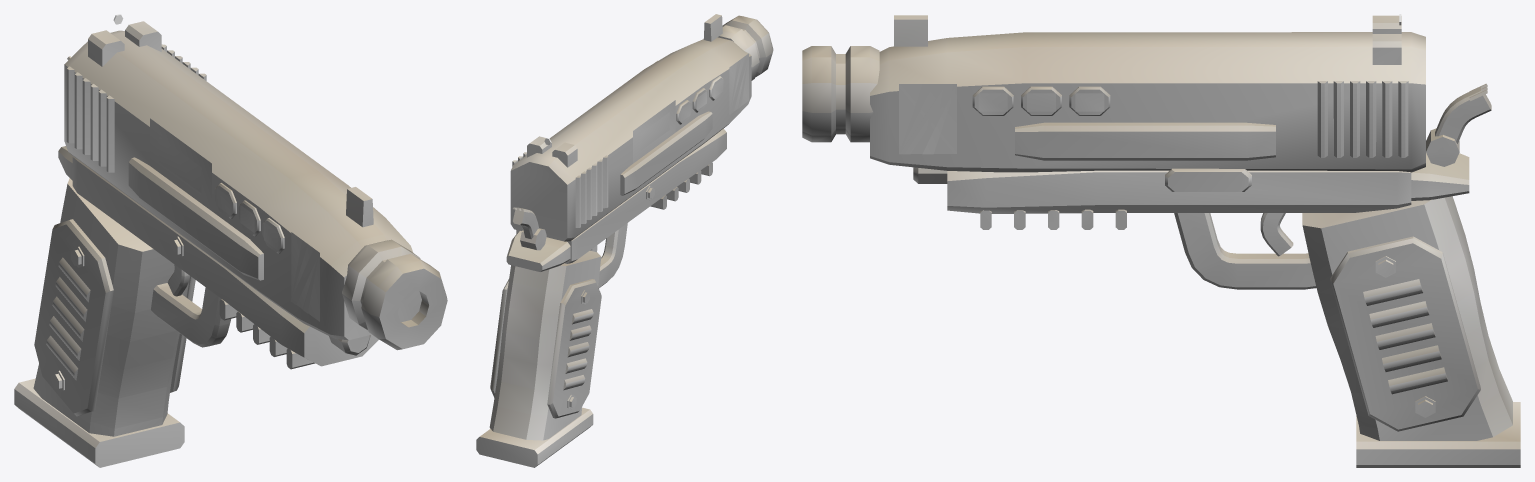
File: hand-cannon-l.glb
The picture shows the model from 3 angles, left to right: view 1: azimuth 30°, elevation 25°; view 2: azimuth 150°, elevation 25°; view 3: azimuth 270°, elevation 25°; orthographic projection. The views are drawn at different scales.
Parts seen in each view (by area): view 1: Slide, Body, Barrel; view 2: Body, Slide, Barrel, Hammer; view 3: Slide, Body, Barrel, Hammer.
Boxes of the visible parts, box(x1,y1,x2,y2) form: Slide: box(64, 14, 412, 340); Body: box(14, 146, 378, 467); Barrel: box(342, 239, 447, 350); Body: box(476, 128, 726, 467); Slide: box(510, 14, 751, 241); Barrel: box(718, 15, 773, 80); Hammer: box(513, 207, 546, 250); Slide: box(870, 14, 1425, 172); Body: box(913, 153, 1520, 467); Barrel: box(802, 46, 879, 142); Hammer: box(1426, 83, 1491, 166).
Size of the model in its own units: 0.2617 by 0.9908 by 1.49.
